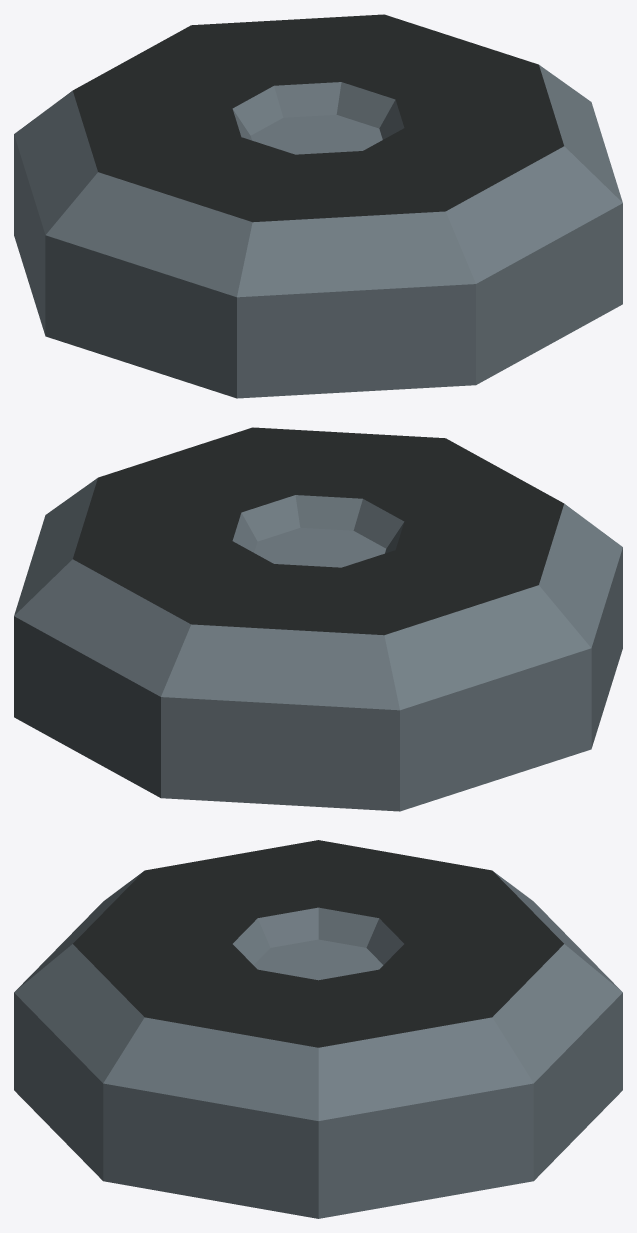
The model's file is SM_Prop_DJ_Turntable_02_Table_01.obj.
The picture shows the model from 3 angles, top to bottom: view 1: azimuth 30°, elevation 25°; view 2: azimuth 150°, elevation 25°; view 3: azimuth 270°, elevation 25°; orthographic projection. The views are drawn at different scales.
Visible parts, largest first — view 1: SM_Prop_DJ_Turntable_02_Table_01_0; view 2: SM_Prop_DJ_Turntable_02_Table_01_0; view 3: SM_Prop_DJ_Turntable_02_Table_01_0.
Part boxes in pixels (<box>): SM_Prop_DJ_Turntable_02_Table_01_0: <box>14,14,622,398</box>; SM_Prop_DJ_Turntable_02_Table_01_0: <box>14,427,622,811</box>; SM_Prop_DJ_Turntable_02_Table_01_0: <box>14,840,622,1218</box>.
Bounding box in the file's own units: 0.3572 × 0.0947 × 0.3572.
Materials: 1 (1 with a texture image).
